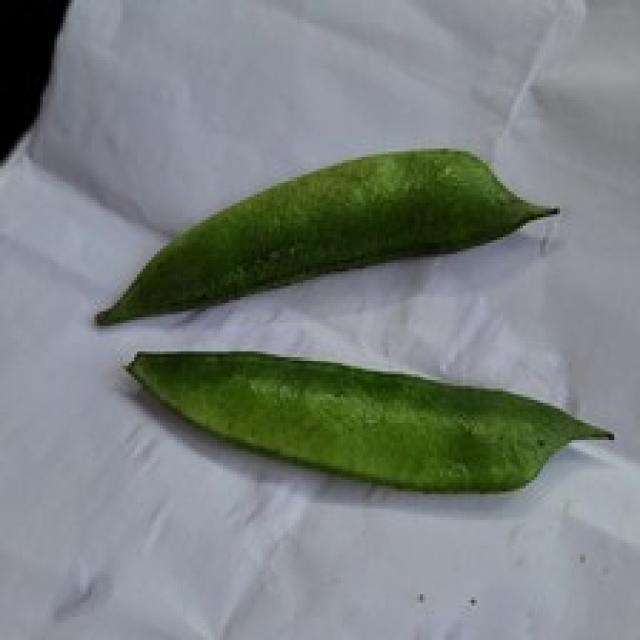Bean: (91, 143, 560, 326), (123, 346, 614, 494)
